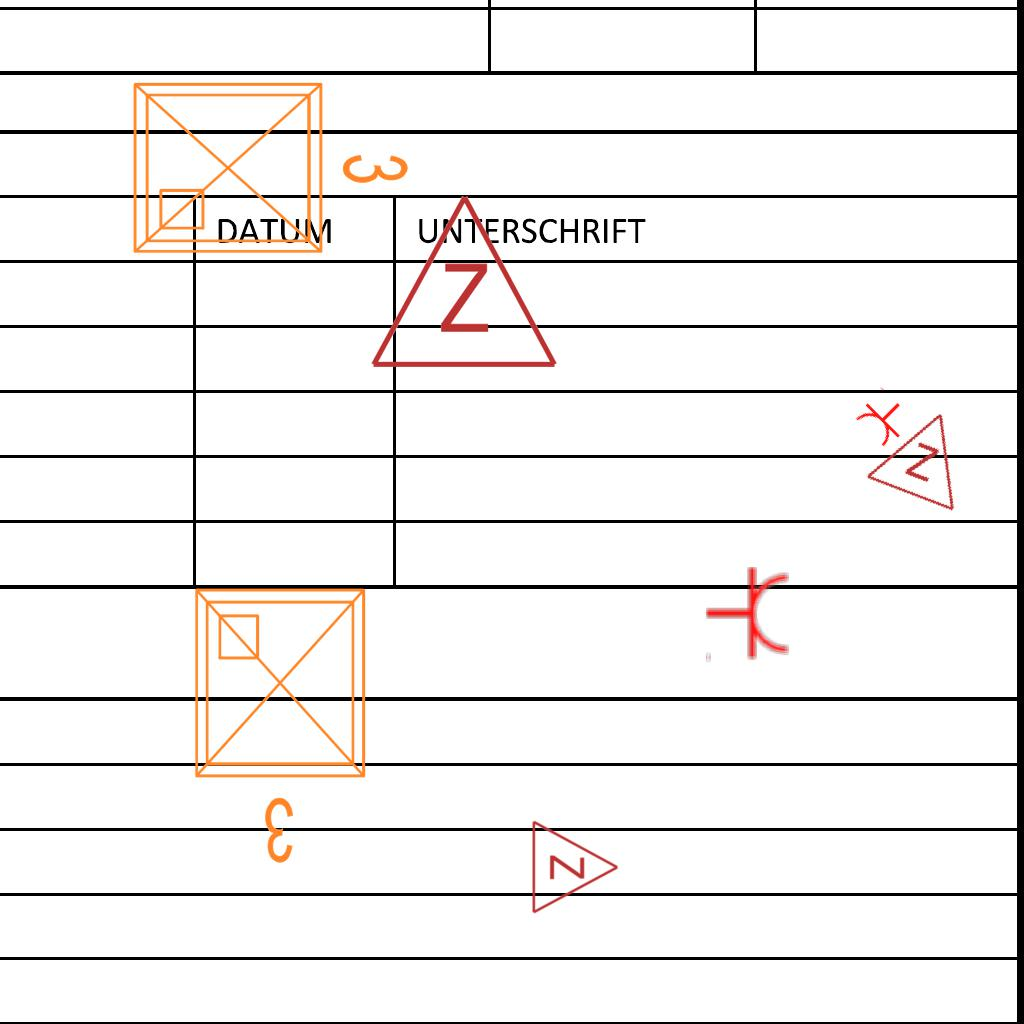Einbaudownlights_LED_Konferenzraeume: (180, 574, 388, 874), (119, 60, 419, 268)
Schukosteckdose_einfach: (704, 565, 791, 665), (850, 385, 917, 451)
Zimmersignalleuchte: (364, 182, 560, 382), (860, 389, 988, 519), (525, 817, 625, 915)
